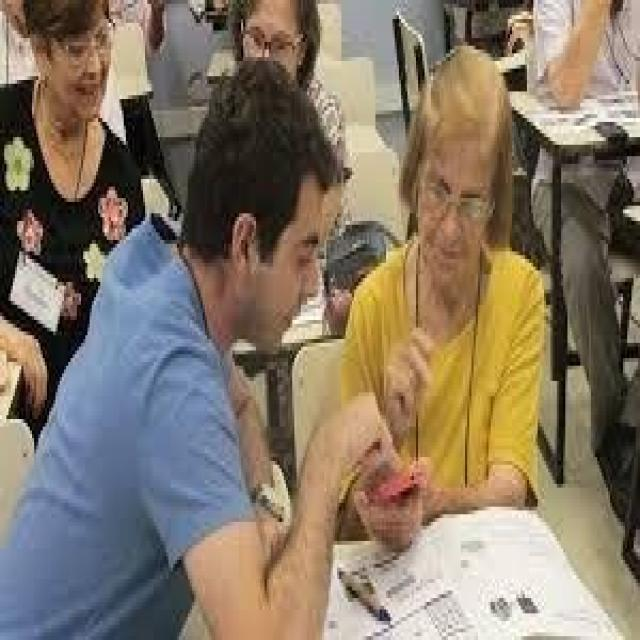person: (0, 46, 361, 624), (337, 19, 580, 556), (0, 0, 143, 404), (190, 0, 358, 343)
